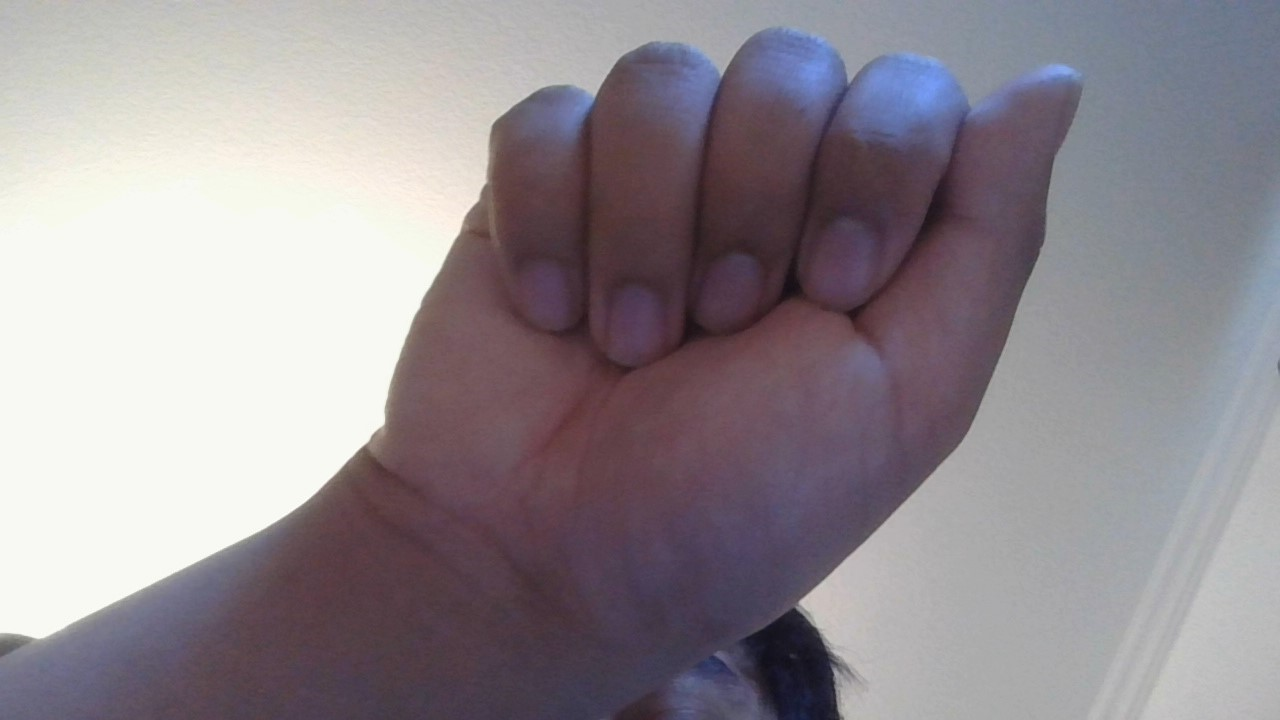a: (357, 21, 1121, 688)
